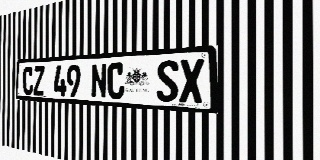4: (54, 65, 67, 97)
9: (67, 64, 81, 97)
C: (107, 62, 125, 100), (23, 67, 33, 95)
N: (91, 63, 107, 99)
S: (156, 60, 179, 102)
X: (179, 59, 204, 103)
Z: (33, 66, 45, 96)
